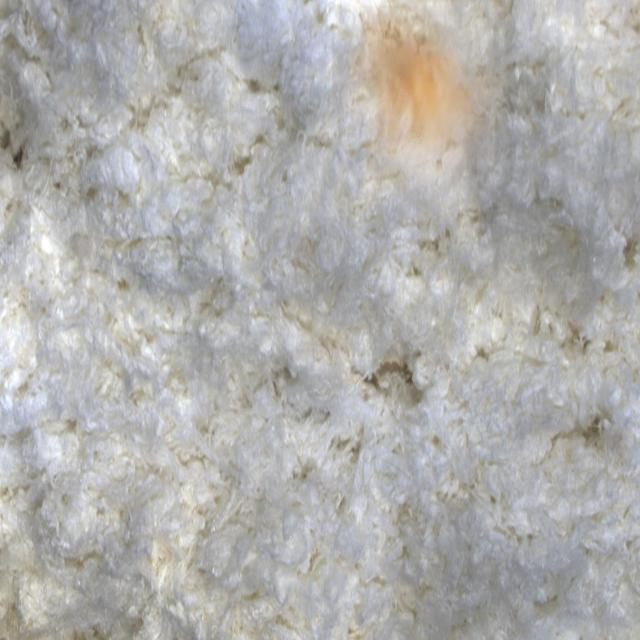dust: (332, 5, 501, 224)
